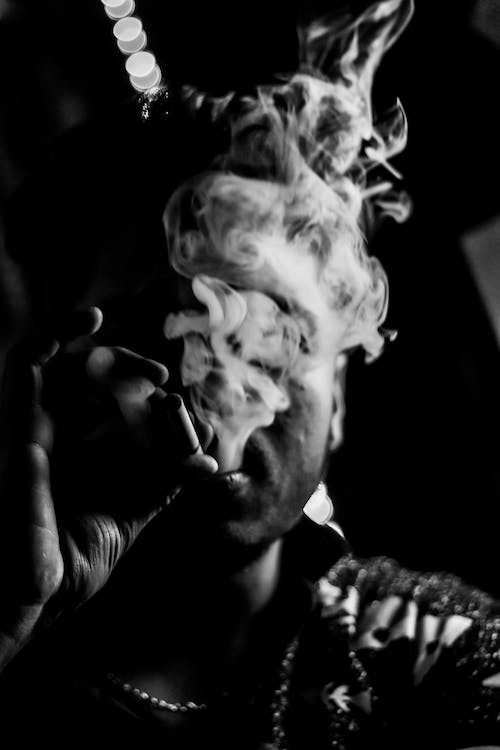cigarette: (159, 390, 204, 460)
